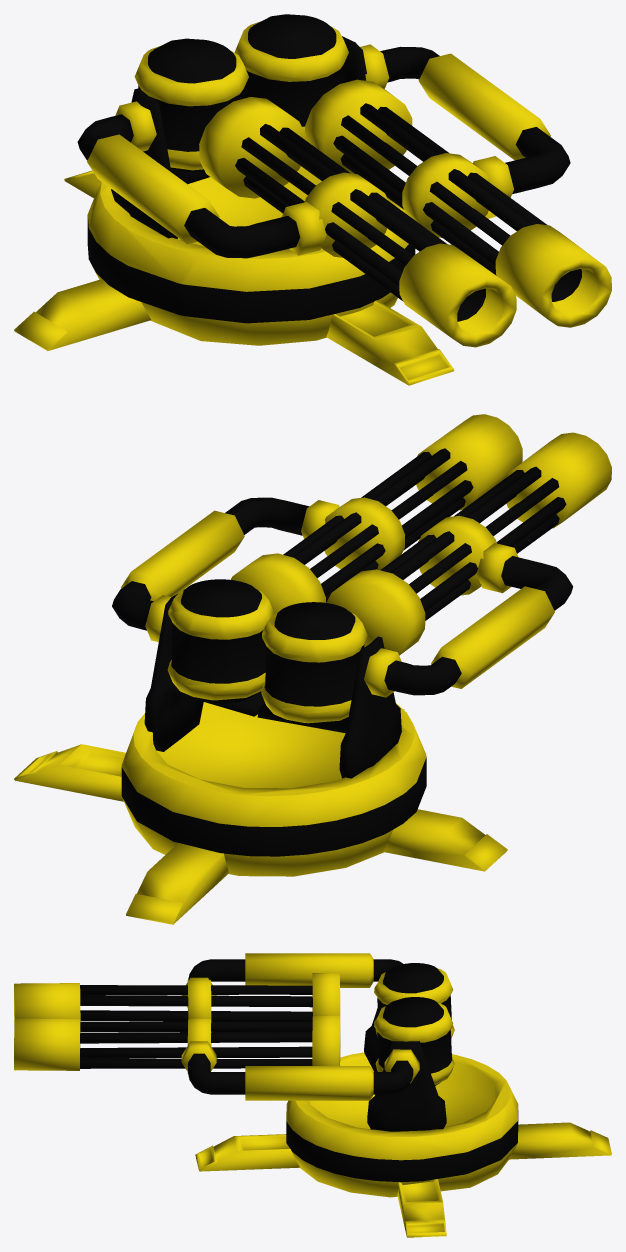
File: Turret.fbx
The picture shows the model from 3 angles, top to bottom: view 1: azimuth 30°, elevation 25°; view 2: azimuth 150°, elevation 25°; view 3: azimuth 270°, elevation 25°; orthographic projection. The views are drawn at different scales.
Visible parts, largest first — view 1: TurretHead, Turret; view 2: TurretHead, Turret; view 3: TurretHead, Turret.
Part boxes in pixels (bbox=[...]): TurretHead: bbox=[77, 14, 611, 347]; Turret: bbox=[14, 166, 496, 385]; TurretHead: bbox=[112, 414, 611, 778]; Turret: bbox=[14, 702, 507, 924]; TurretHead: bbox=[14, 953, 454, 1131]; Turret: bbox=[195, 1052, 611, 1237].
Bounding box in the file's own units: 554 × 255 × 854.
